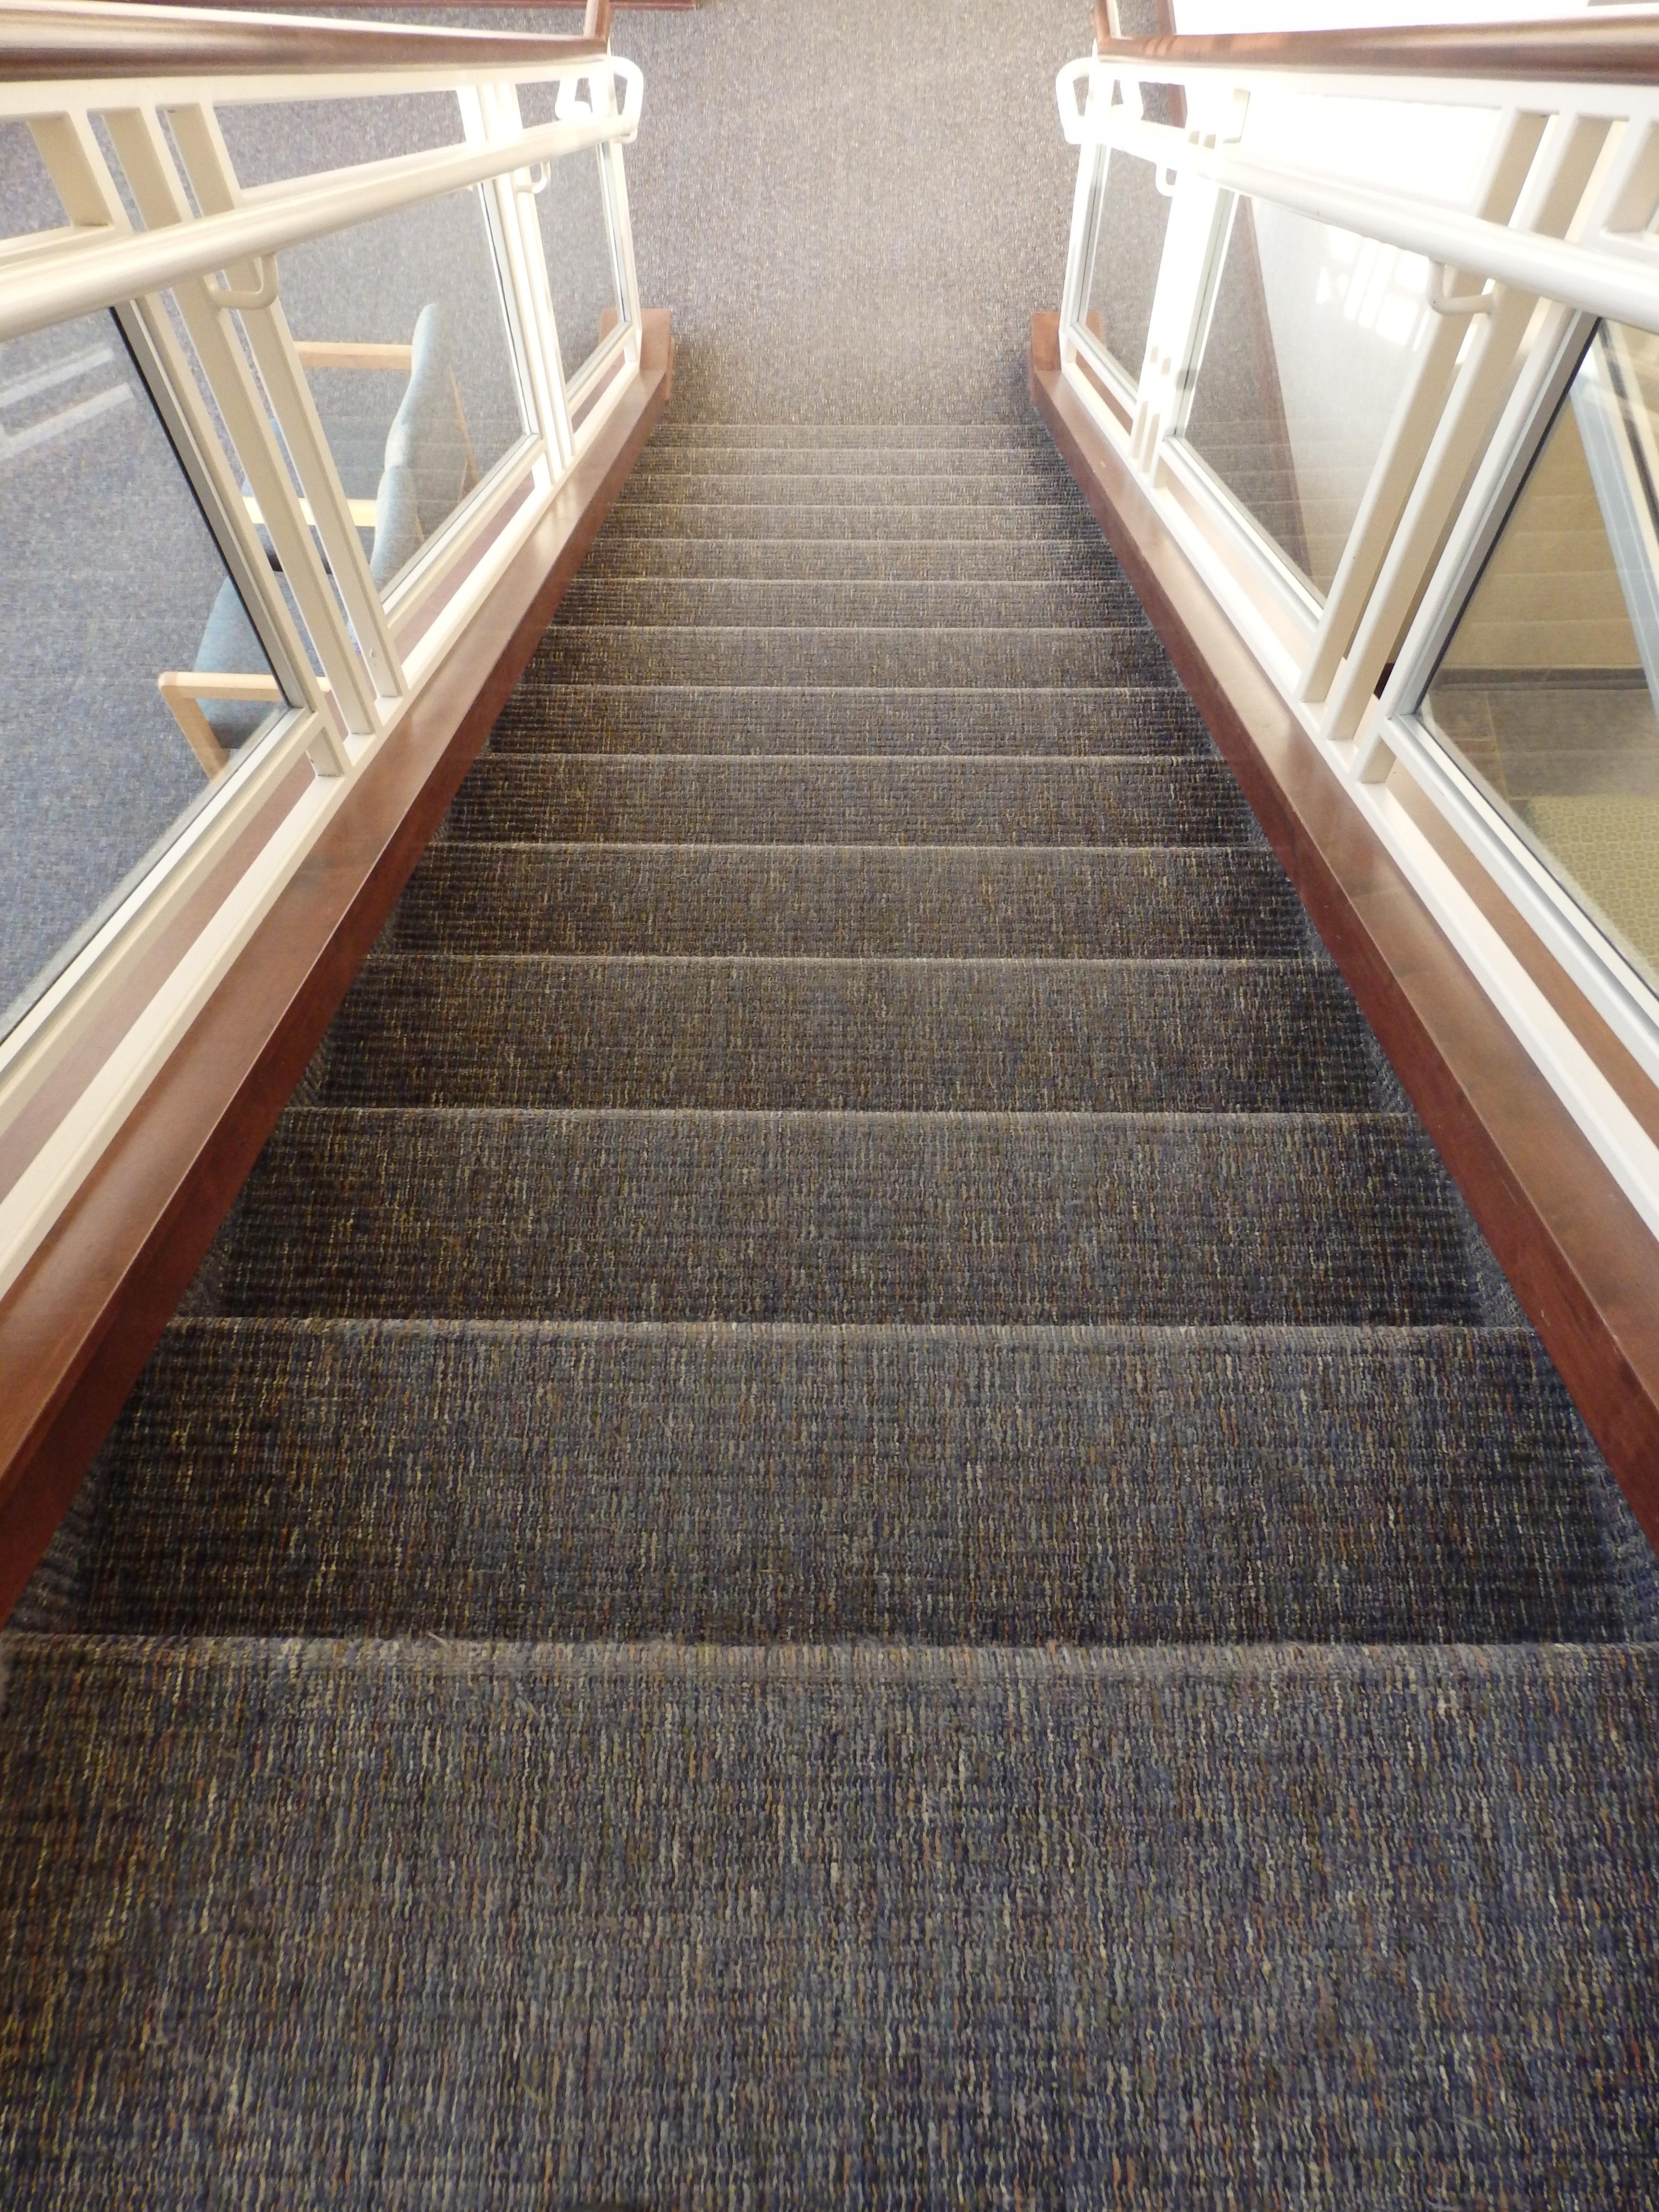stairs_down: (77, 362, 1612, 1770)
